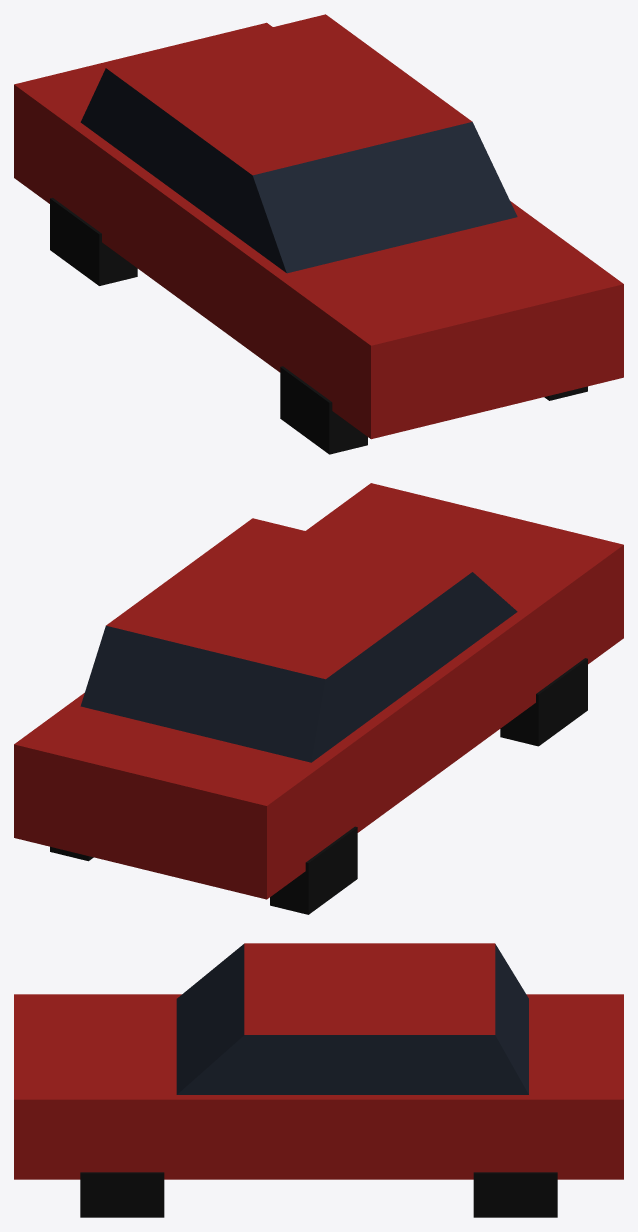
Rendered from car_sedan_red.obj.
3 views of the same model, one above another, from view 1: azimuth 30°, elevation 25°; view 2: azimuth 150°, elevation 25°; view 3: azimuth 270°, elevation 25° (orthographic). The views are drawn at different scales.
Visible parts, largest first — view 1: car_sedan_red; view 2: car_sedan_red; view 3: car_sedan_red.
Boxes of the visible parts, x1,y1,x2,y2 form: car_sedan_red: (14,14,623,454); car_sedan_red: (14,483,623,914); car_sedan_red: (14,943,623,1217).
Size of the model in its own units: 1.88 by 1.42 by 4.5.
